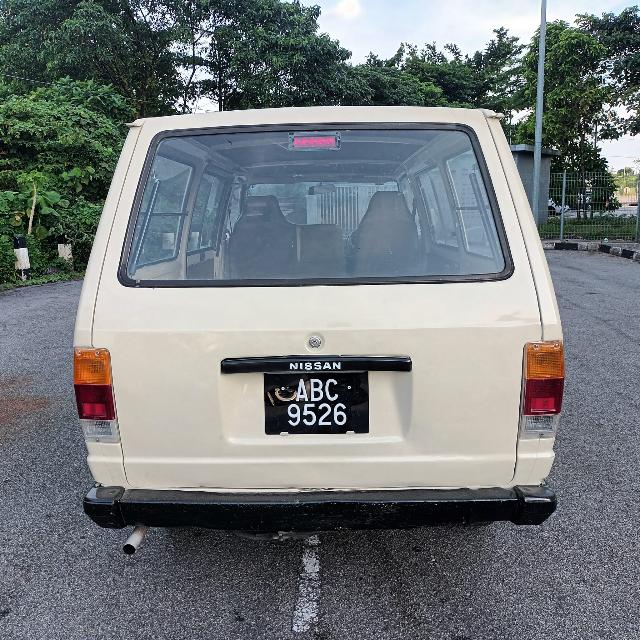License_Plate: (268, 380, 365, 437)
van: (60, 97, 566, 557)
